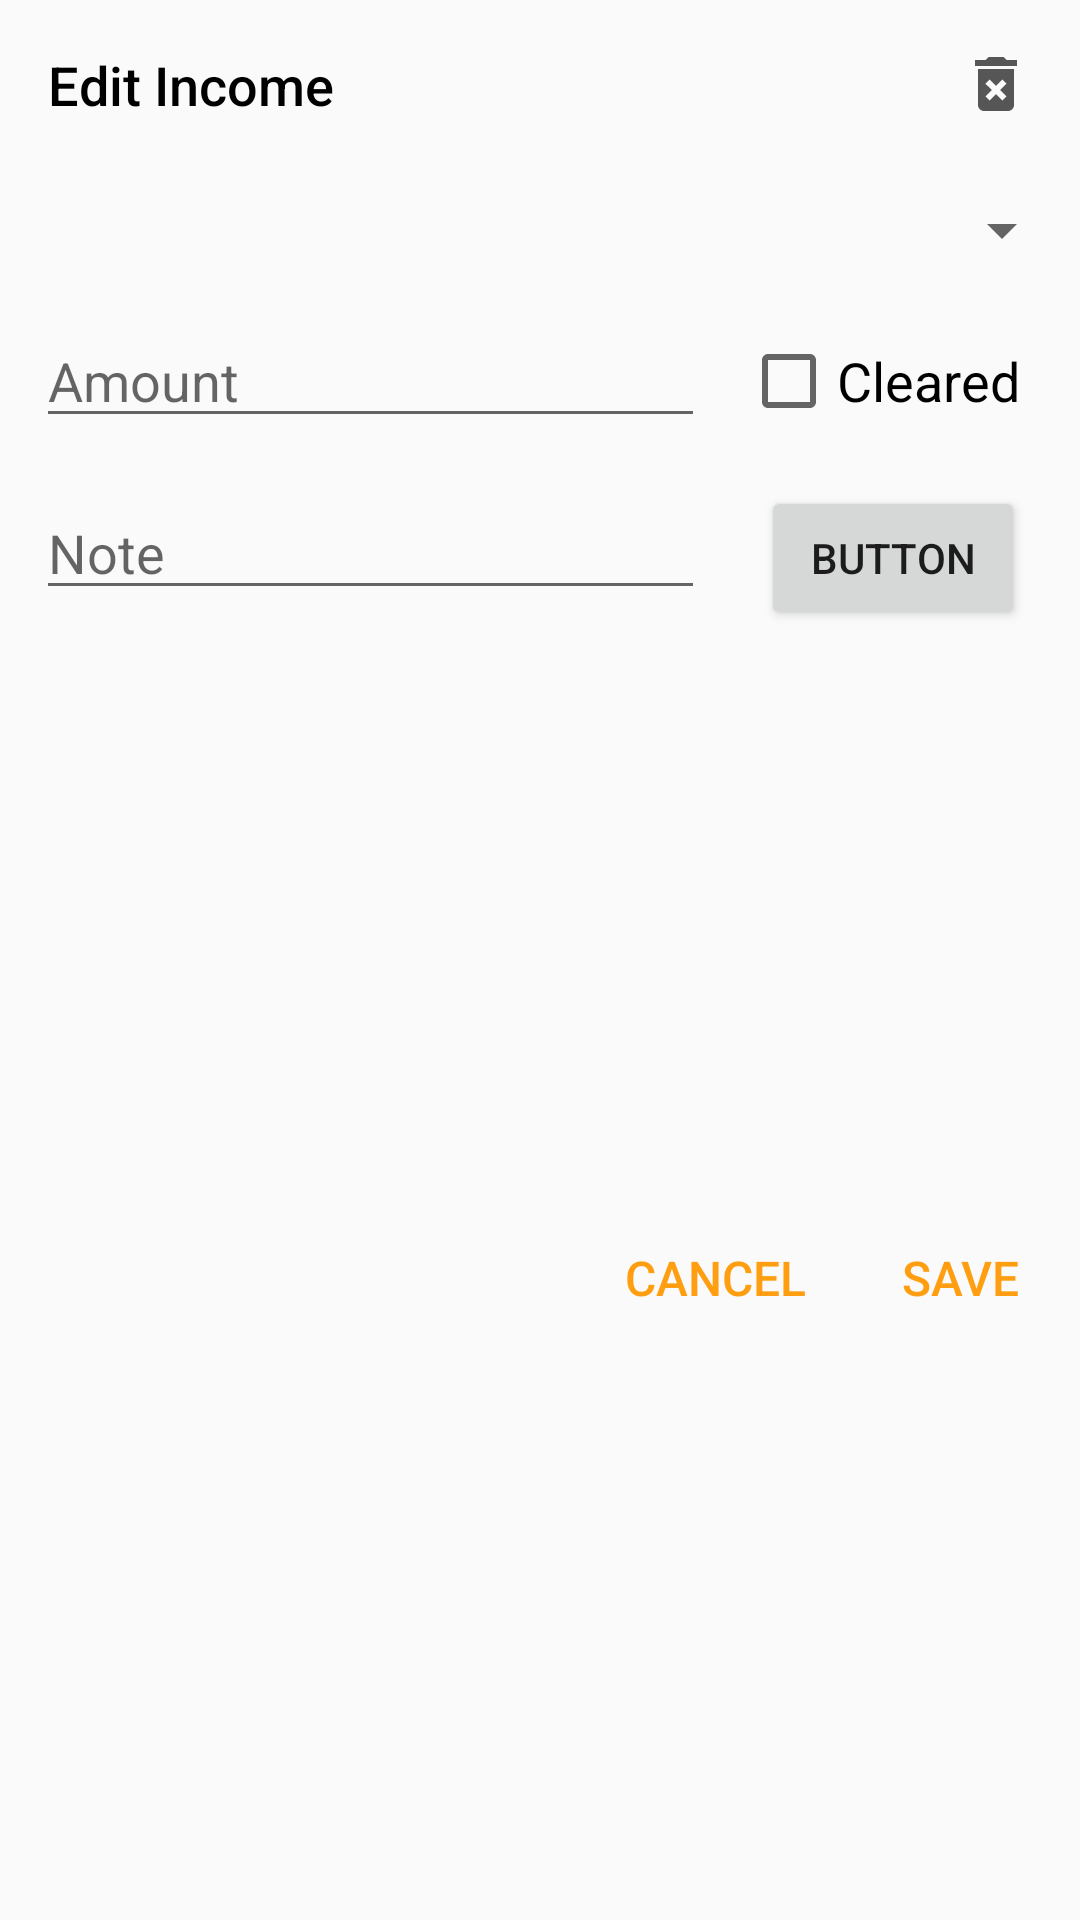

Screen size 1080 x 1920. Icon name, then its box in pixels as (x1, y1, x2, y2):
Delete income: (975, 57, 1017, 111)
